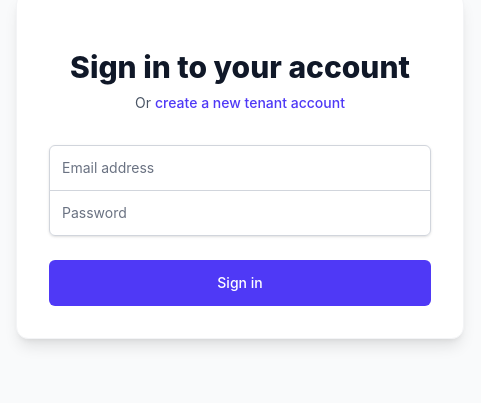
it: LoginPage integration › should display an error message on failed login
This screenshot has width=481, height=403.
Type "test@example.com" into the field labelled "Email address".
click(240, 168); type("test@example.com")  # box [49,144,431,190]
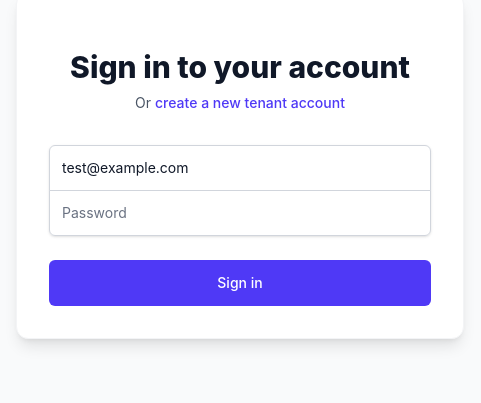
Type "wrongpassword" into the password field labelled "Password".
click(240, 212); type("wrongpassword")  # box [49,190,431,236]
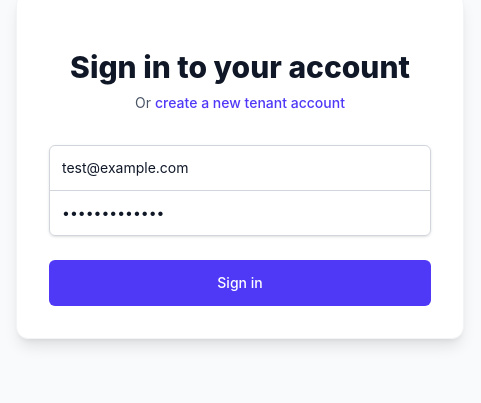
Click the button "Sign in".
click(240, 282)  # box [49,260,431,306]
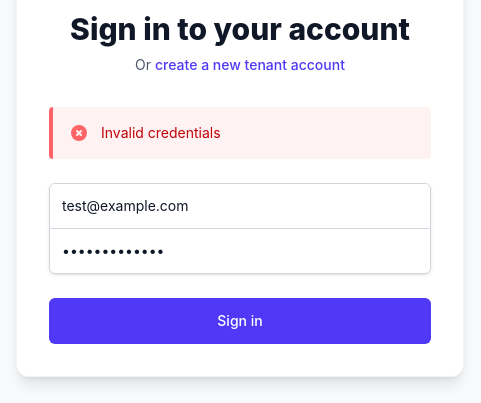
Result: the text "Invalid credentials" is shown at [101,122,221,142]
